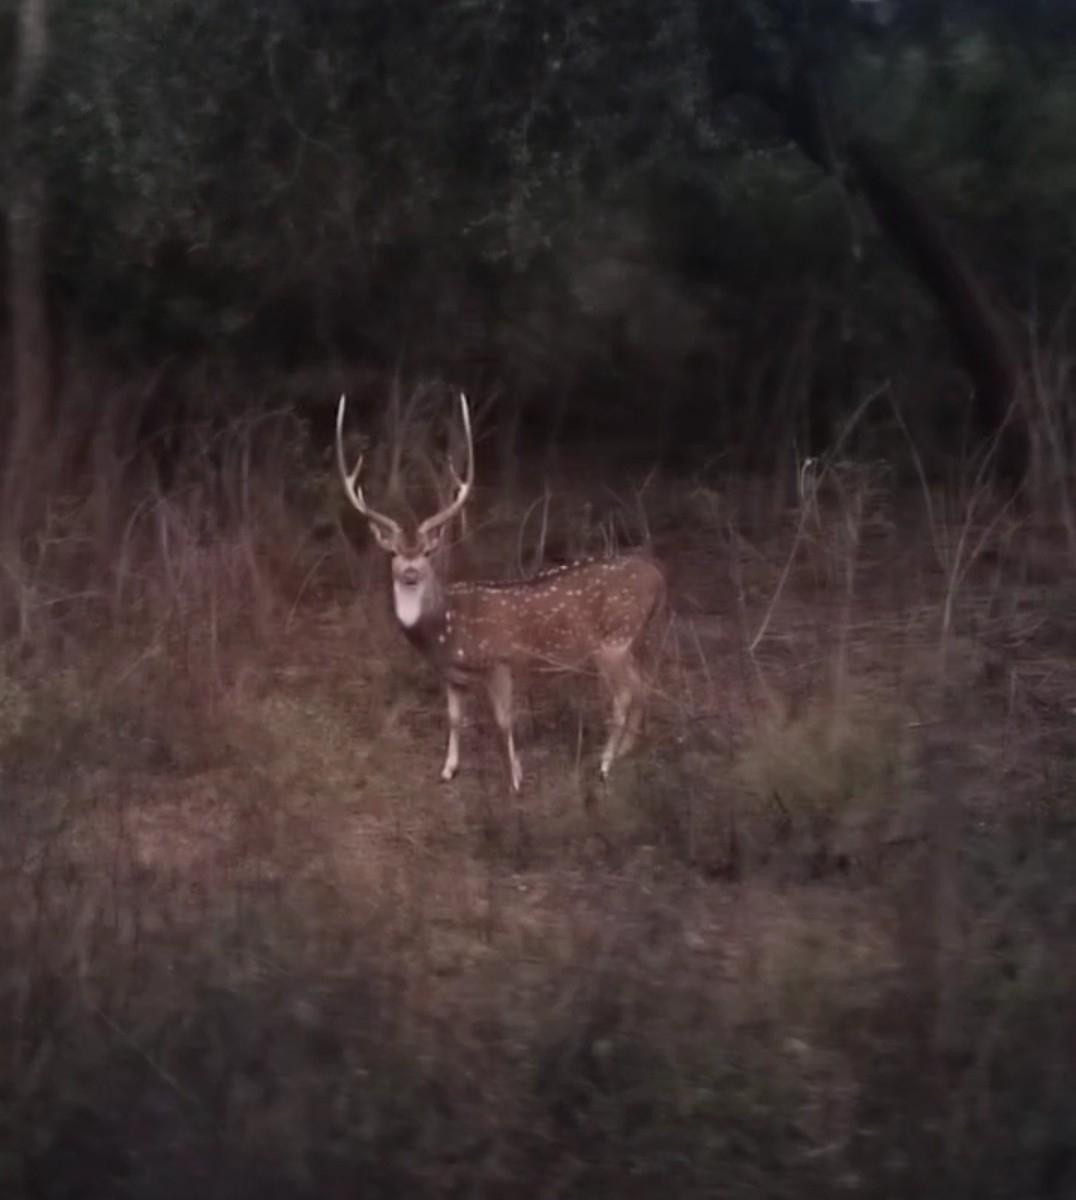Deer: (337, 393, 662, 791)
